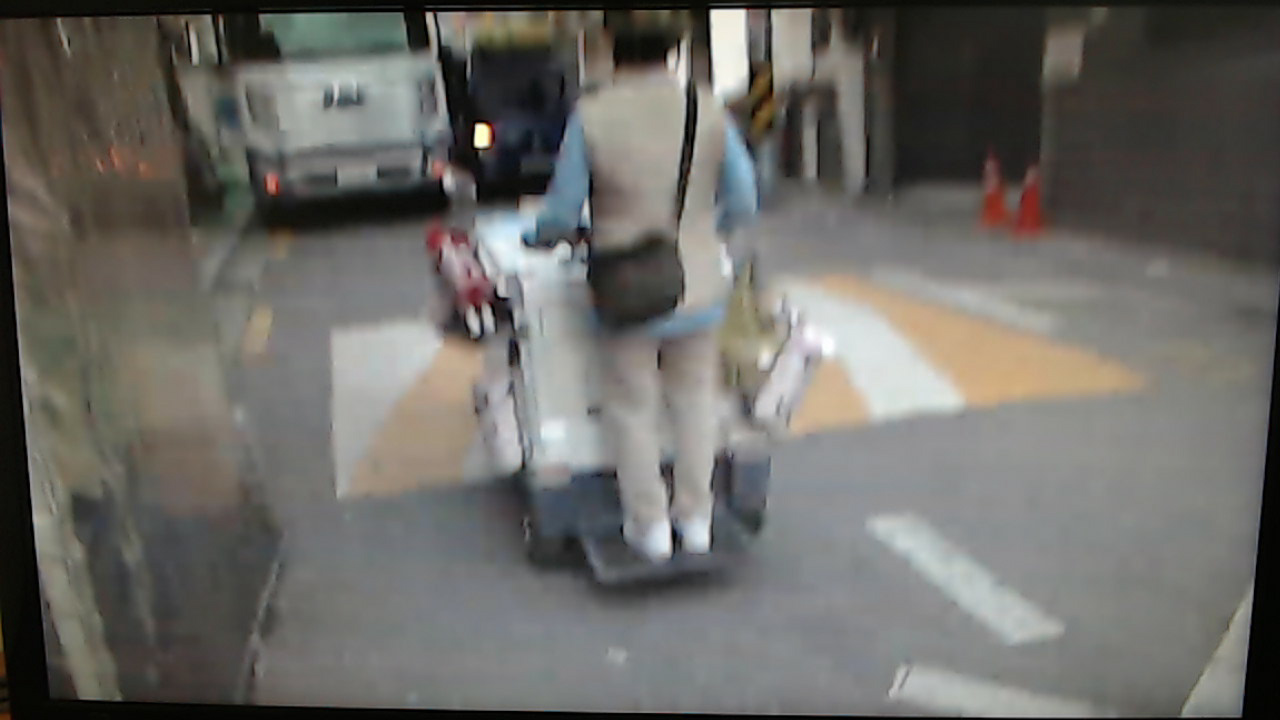Yakurut: (517, 18, 782, 574)
